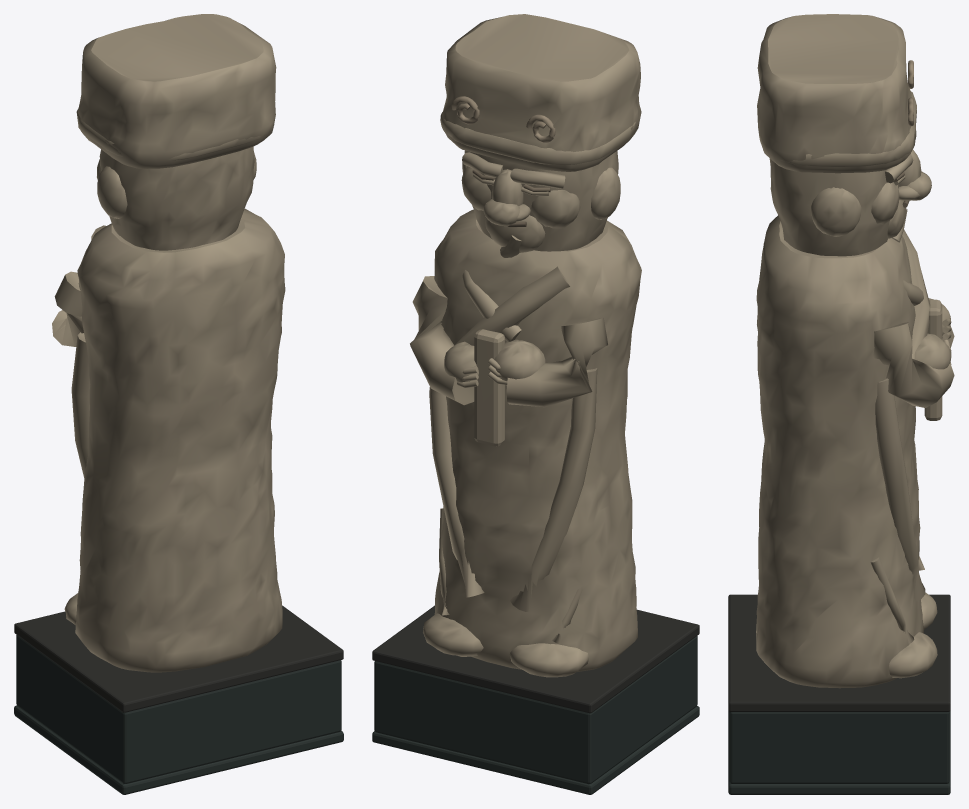
File: keeperR.glb
3 views of the same model, side by side, from view 1: azimuth 30°, elevation 25°; view 2: azimuth 150°, elevation 25°; view 3: azimuth 270°, elevation 25° (orthographic).
Parts seen in each view (by area): view 1: Tianjin_keeperR; view 2: Tianjin_keeperR; view 3: Tianjin_keeperR.
Part boxes in pixels (left/top/right/bottom): Tianjin_keeperR: left=14, top=14, right=343, bottom=794; Tianjin_keeperR: left=372, top=14, right=699, bottom=794; Tianjin_keeperR: left=728, top=14, right=954, bottom=794.
Bounding box in the file's own units: 0.762 × 2.25 × 0.6672.
